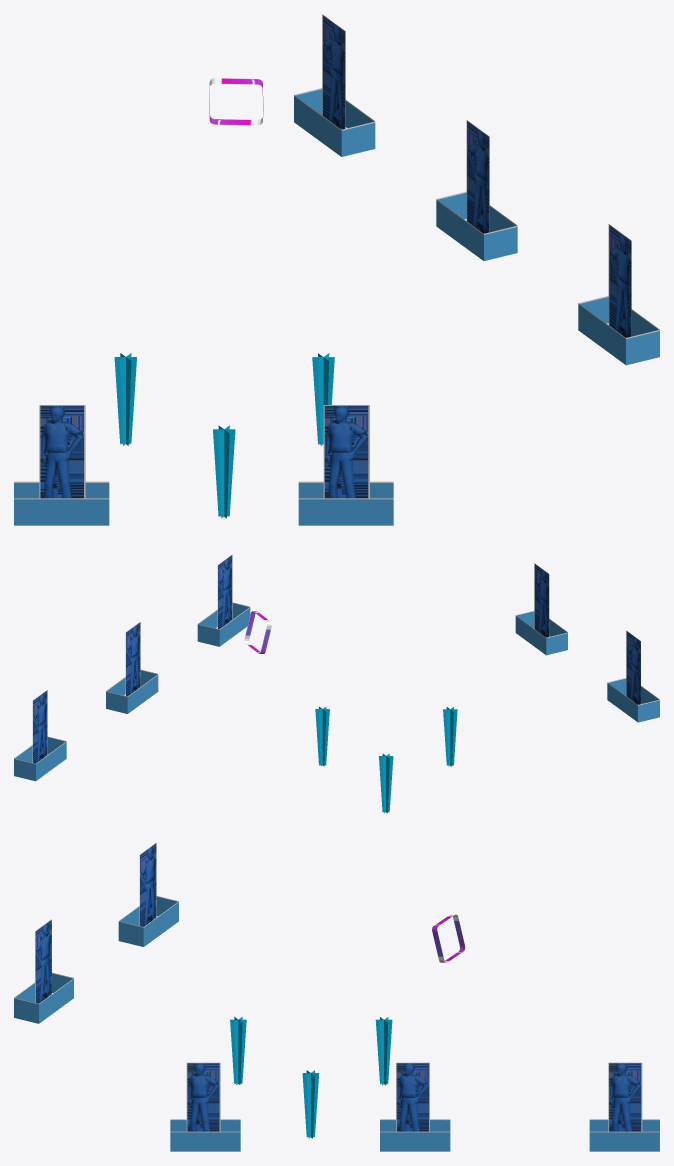
File: XNR_1_UV5_0.FBX
3 views of the same model, one above another, from view 1: azimuth 30°, elevation 25°; view 2: azimuth 150°, elevation 25°; view 3: azimuth 270°, elevation 25° (orthographic). The views are drawn at different scales.
Visible parts, largest first — view 1: XNR_1_UV5_3, XNR_1_UV5_4, XNR_1_UV5_2, XNR_1_UV5; view 2: XNR_1_UV5_3, XNR_1_UV5_4, XNR_1_UV5_2, XNR_1_UV5; view 3: XNR_1_UV5_4, XNR_1_UV5_3, XNR_1_UV5_2, XNR_1_UV5.
Part boxes in pixels (x1,y1,x2,y2): XNR_1_UV5_3: (14,88,659,525); XNR_1_UV5_4: (39,14,631,498); XNR_1_UV5_2: (114,353,334,518); XNR_1_UV5: (209,78,263,125); XNR_1_UV5_3: (14,602,659,781); XNR_1_UV5_4: (32,554,640,763); XNR_1_UV5_2: (315,706,457,813); XNR_1_UV5: (244,611,271,653); XNR_1_UV5_4: (35,842,642,1131); XNR_1_UV5_3: (14,896,659,1151); XNR_1_UV5_2: (230,1017,392,1138); XNR_1_UV5: (432,914,465,962).
Size of the model in its own units: 42.68 by 18.44 by 49.3.
1 material, 1 textured.
